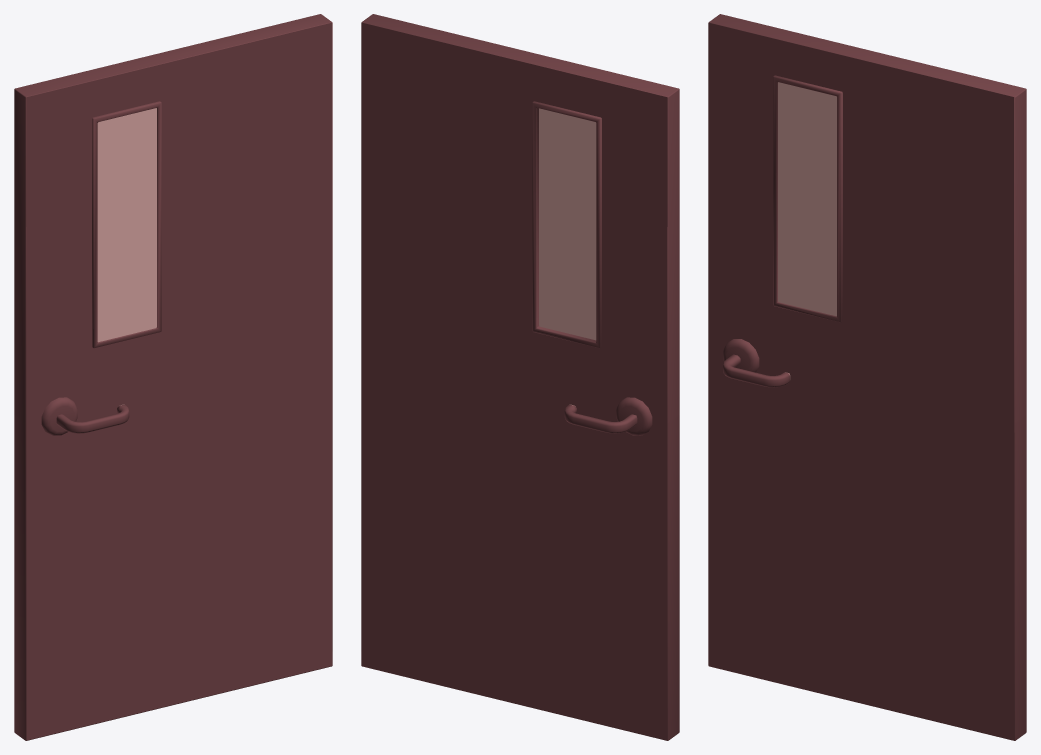
The model's file is Door.fbx.
The picture shows the model from 3 angles, left to right: view 1: azimuth 30°, elevation 25°; view 2: azimuth 150°, elevation 25°; view 3: azimuth 330°, elevation 25°; orthographic projection.
Parts seen in each view (by area): view 1: Door.002; view 2: Door.002; view 3: Door.002.
Part boxes in pixels (box(x1,y1,x2,y2)): Door.002: box(14, 14, 332, 740); Door.002: box(361, 14, 679, 740); Door.002: box(708, 14, 1026, 740).
Bounding box in the file's own units: 0.9924 × 1.99 × 0.2828.
